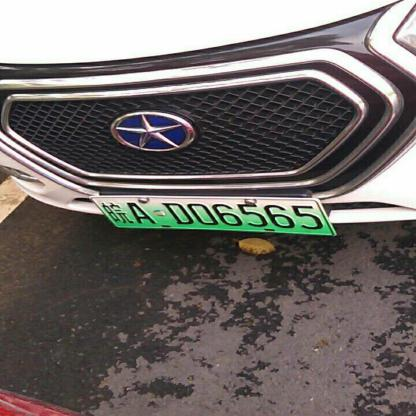lp: (90, 198, 336, 234)
